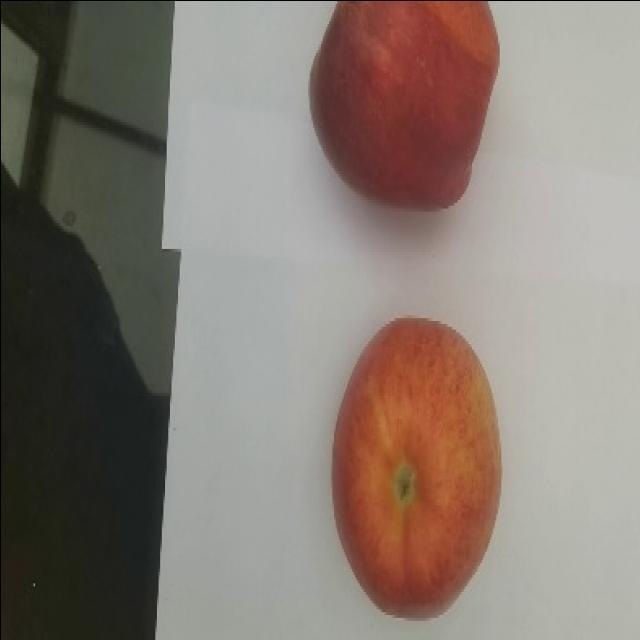Apple: (332, 320, 497, 623), (304, 0, 503, 214)
